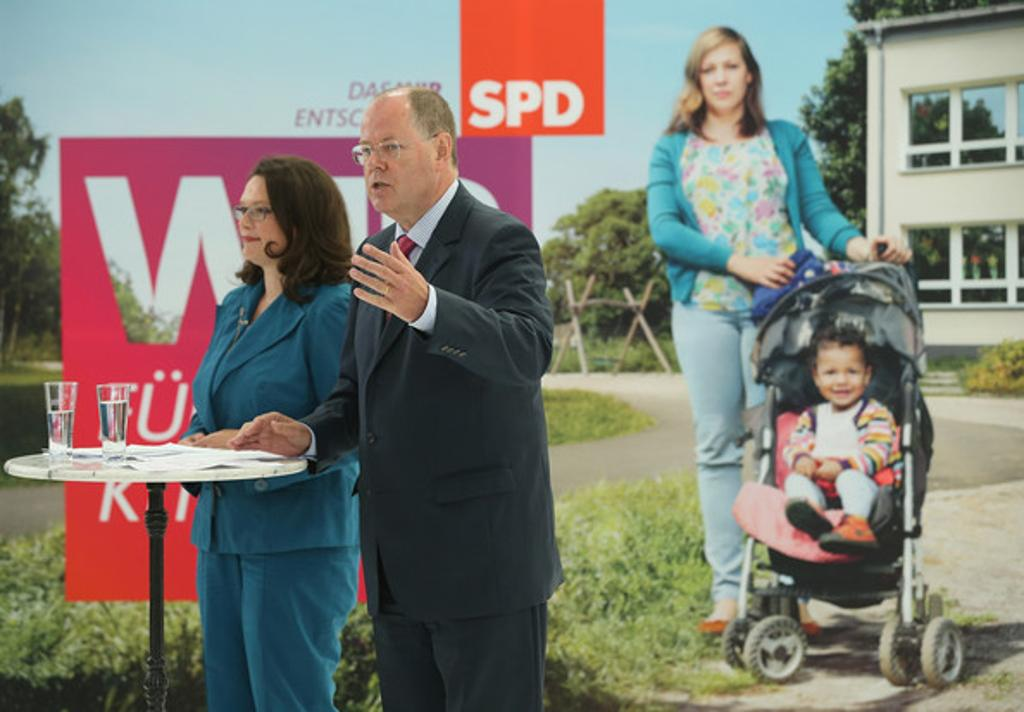face: (358, 114, 428, 210), (238, 178, 290, 260), (812, 336, 866, 408), (696, 38, 748, 108)
